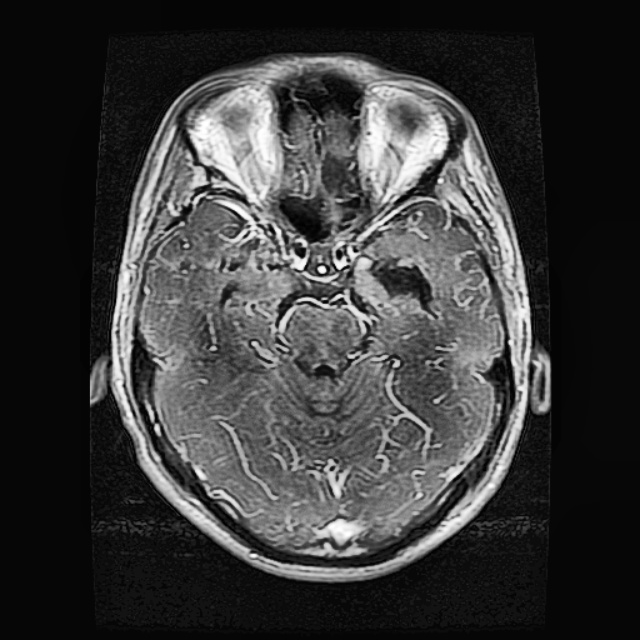Meningioma: (352, 249, 439, 318)
